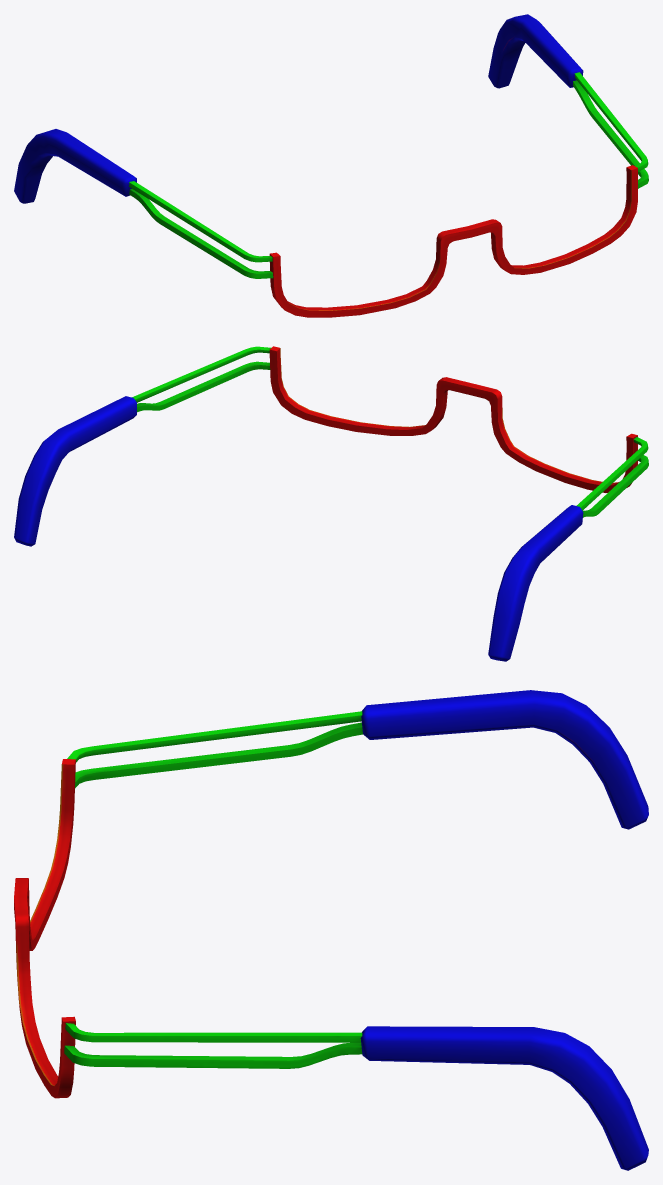
File: Face_ReadingGlasses.obj
The picture shows the model from 3 angles, top to bottom: view 1: azimuth 30°, elevation 25°; view 2: azimuth 150°, elevation 25°; view 3: azimuth 270°, elevation 25°; orthographic projection. The views are drawn at different scales.
Parts seen in each view (by area): view 1: Face_ReadingGlasses_0; view 2: Face_ReadingGlasses_0; view 3: Face_ReadingGlasses_0.
Part boxes in pixels (<box>): Face_ReadingGlasses_0: <box>14,14,648,317</box>; Face_ReadingGlasses_0: <box>14,346,648,661</box>; Face_ReadingGlasses_0: <box>14,690,648,1170</box>.
Bounding box in the file's own units: 0.1951 × 0.0344 × 0.1463.
Materials: 1 (1 with a texture image).
